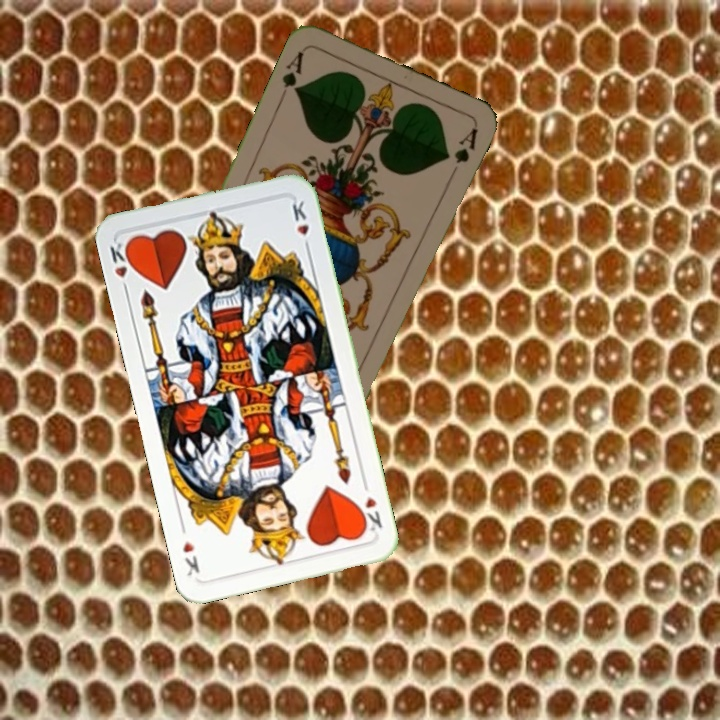GA: (278, 47, 307, 97)
HK: (105, 238, 138, 297), (355, 477, 385, 536)
